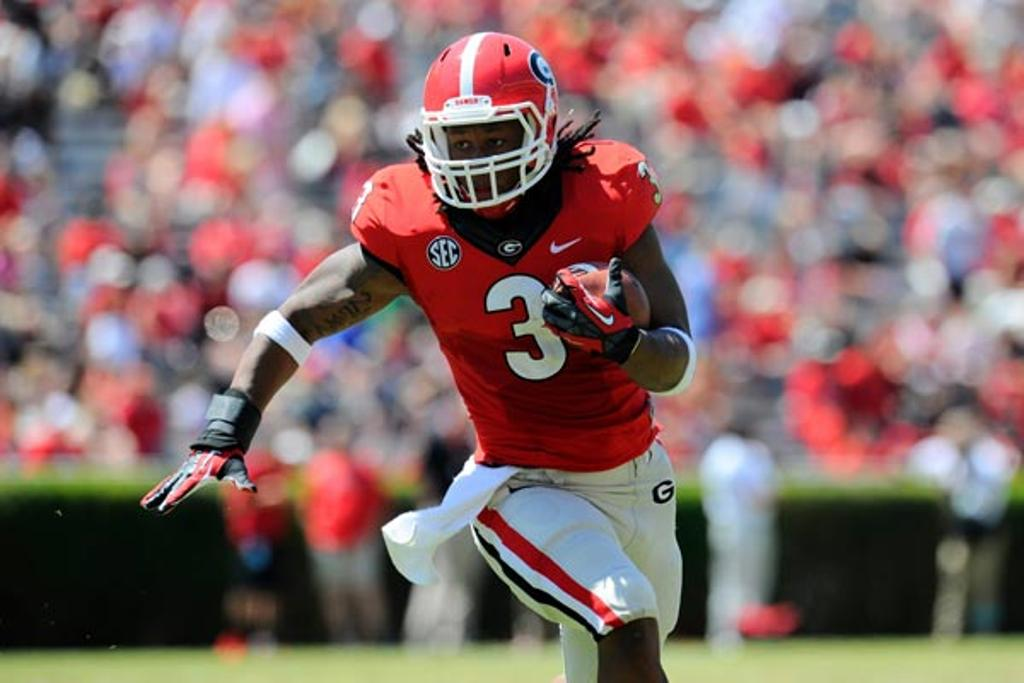face: (428, 72, 540, 214)
